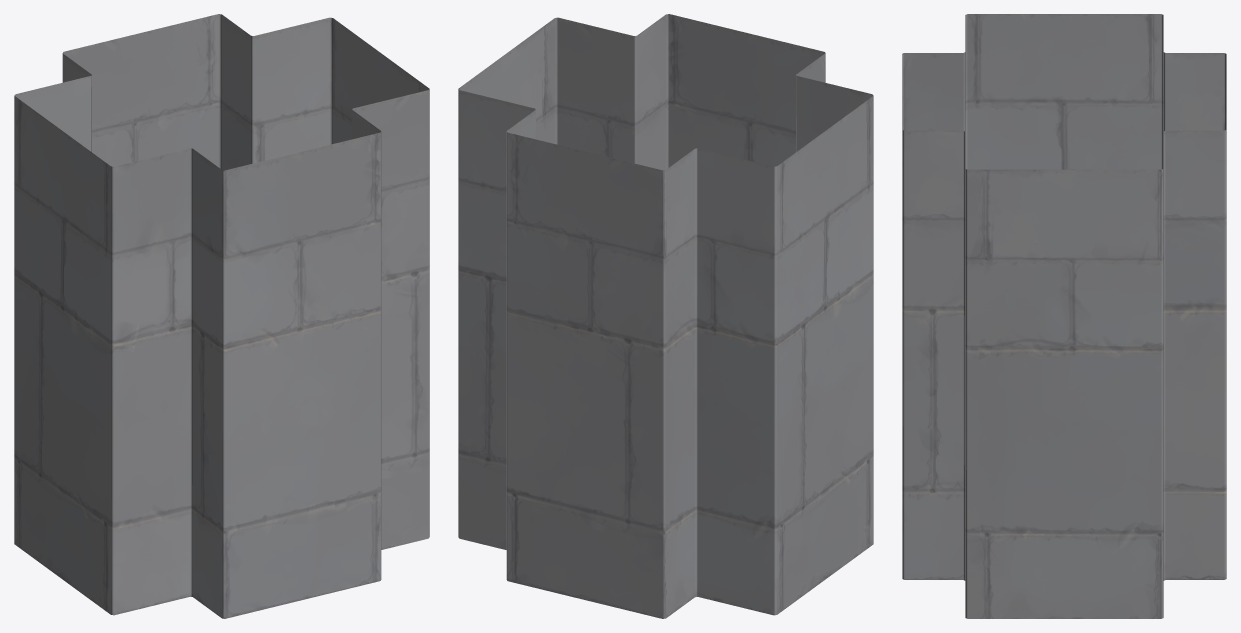
Rendered from SM_WallArchColumn.fbx.
The picture shows the model from 3 angles, left to right: view 1: azimuth 30°, elevation 25°; view 2: azimuth 150°, elevation 25°; view 3: azimuth 270°, elevation 25°; orthographic projection.
Visible parts, largest first — view 1: SM_WallArchColumn; view 2: SM_WallArchColumn; view 3: SM_WallArchColumn.
Part boxes in pixels (x1,y1,x2,y2): SM_WallArchColumn: (14, 14, 429, 618); SM_WallArchColumn: (458, 14, 873, 618); SM_WallArchColumn: (902, 14, 1226, 618).
Size of the model in its own units: 1.49 by 2 by 1.31.
